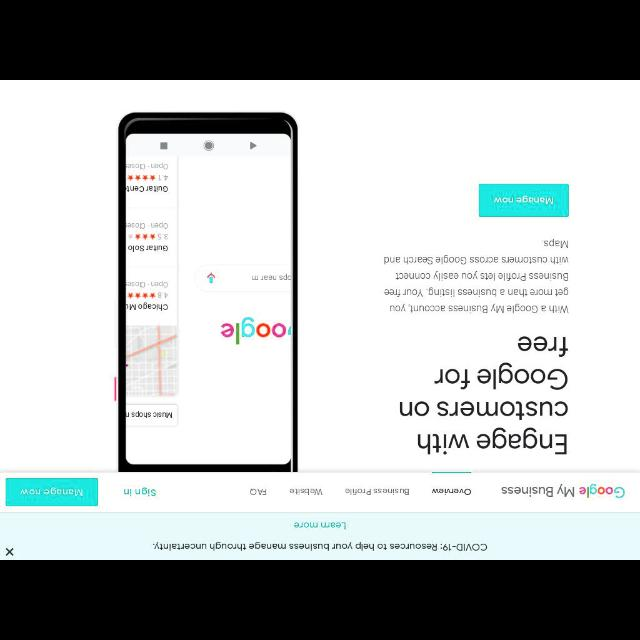icon: (4, 548, 16, 558)
image: (118, 112, 298, 472), (578, 484, 626, 500)
text: (399, 333, 569, 455), (384, 240, 570, 314), (148, 541, 488, 553), (501, 486, 575, 498), (344, 487, 412, 498), (492, 194, 554, 206), (18, 487, 84, 498), (292, 520, 346, 530), (432, 488, 472, 498), (124, 486, 156, 498), (288, 488, 322, 496), (248, 487, 270, 497)
textbutton: (479, 184, 569, 216), (6, 478, 98, 507)
toolbar: (1, 473, 639, 511)
